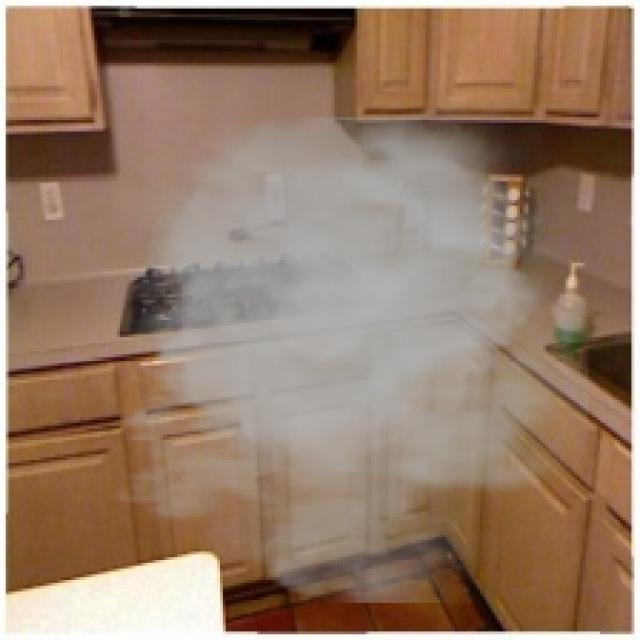Smoke: (62, 86, 588, 603)
